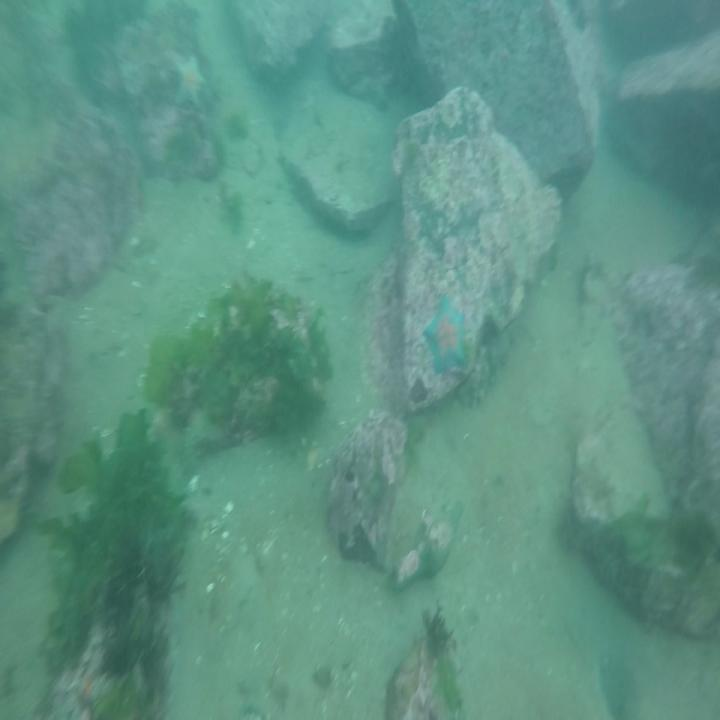starfish: (419, 299, 470, 370), (172, 52, 210, 111)
